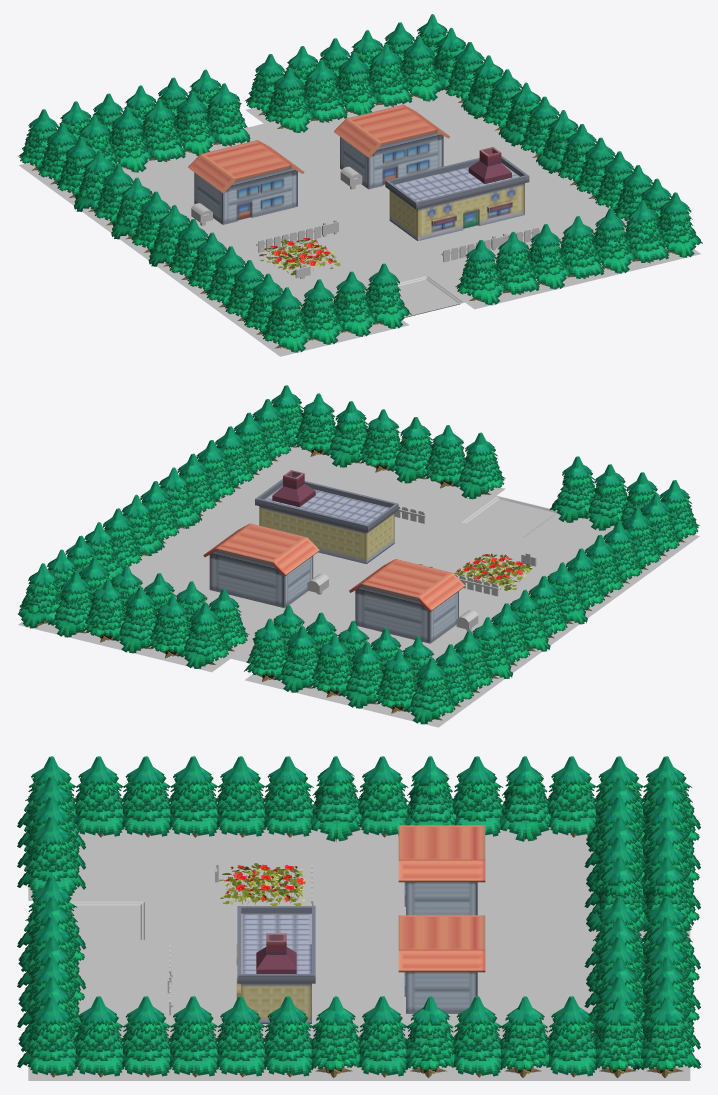
The model's file is pallet-town.fbx.
3 views of the same model, one above another, from view 1: azimuth 30°, elevation 25°; view 2: azimuth 150°, elevation 25°; view 3: azimuth 270°, elevation 25° (orthographic). The views are drawn at different scales.
Parts seen in each view (by area): view 1: 3863-001 (2); view 2: 3863-001 (2); view 3: 3863-001 (2).
Boxes of the visible parts, <box> form: 3863-001 (2): <box>18,14,702,356</box>; 3863-001 (2): <box>18,385,699,727</box>; 3863-001 (2): <box>17,756,701,1080</box>.
Size of the model in its own units: 5436 by 708 by 5836.
